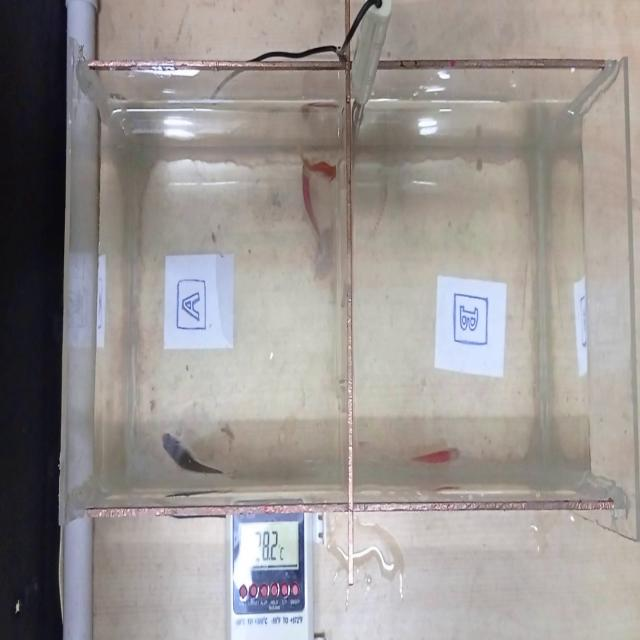Fish A1: (158, 413, 233, 486)
Fish A2: (300, 138, 343, 187)
Fish A3: (298, 158, 324, 273)
Fish B: (401, 436, 472, 482)
